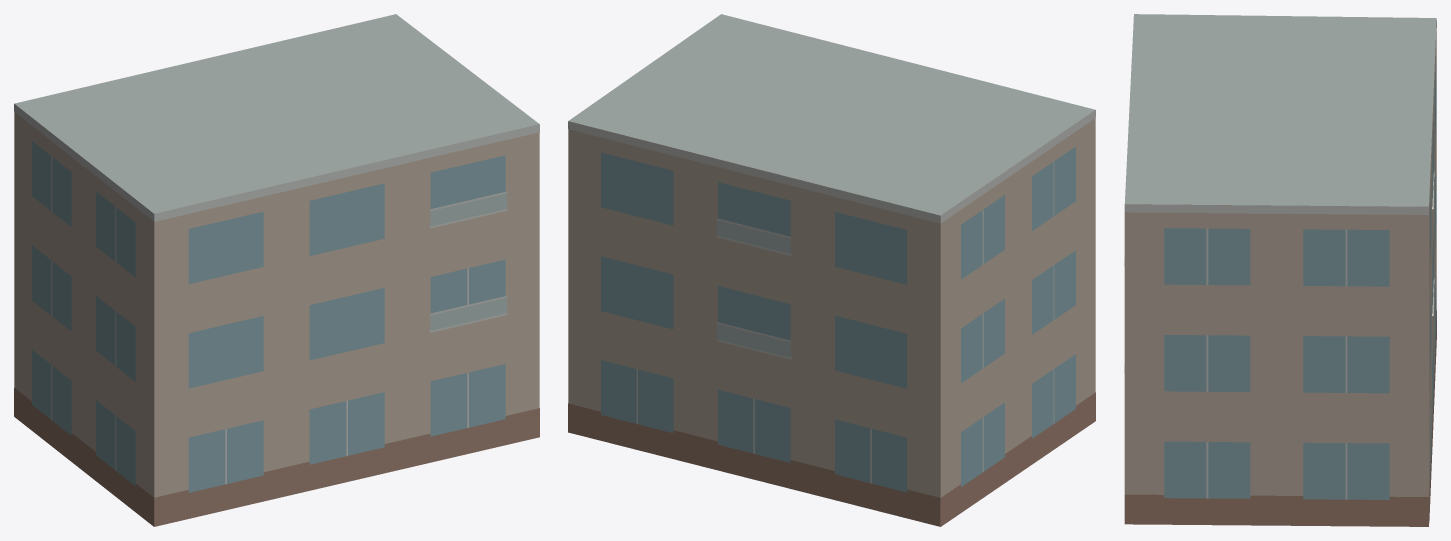
Rendered from survey-upis-32598736.glb.
3 views of the same model, side by side, from view 1: azimuth 30°, elevation 25°; view 2: azimuth 150°, elevation 25°; view 3: azimuth 270°, elevation 25° (orthographic). The views are drawn at different scales.
Parts seen in each view (by area): view 1: survey-upis-32598736.tmp; view 2: survey-upis-32598736.tmp; view 3: survey-upis-32598736.tmp.
Boxes of the visible parts, x1,y1,x2,y2 form: survey-upis-32598736.tmp: (14, 14, 539, 526); survey-upis-32598736.tmp: (568, 14, 1095, 526); survey-upis-32598736.tmp: (1124, 14, 1436, 526).
Bounding box in the file's own units: 12.28 × 9.5 × 8.42.
